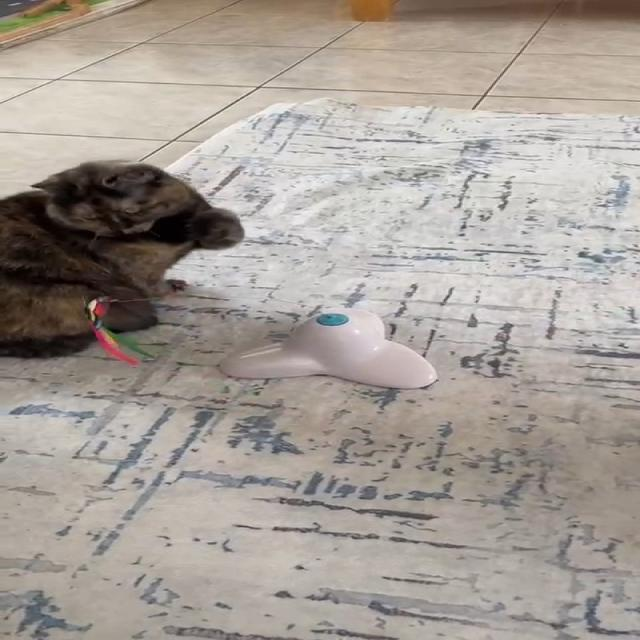authorized: (0, 158, 244, 358)
